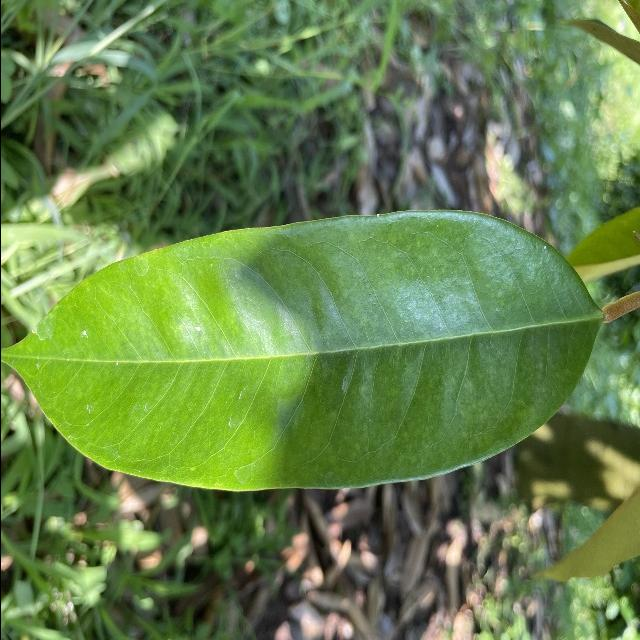No Disease: (0, 203, 615, 502)
